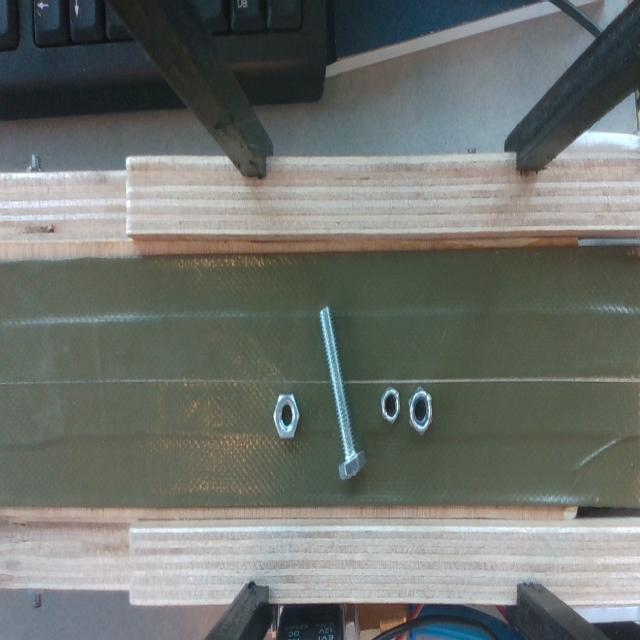Bolt: (320, 307, 365, 481)
Nut: (274, 395, 300, 438), (409, 388, 432, 434), (381, 388, 400, 423)
